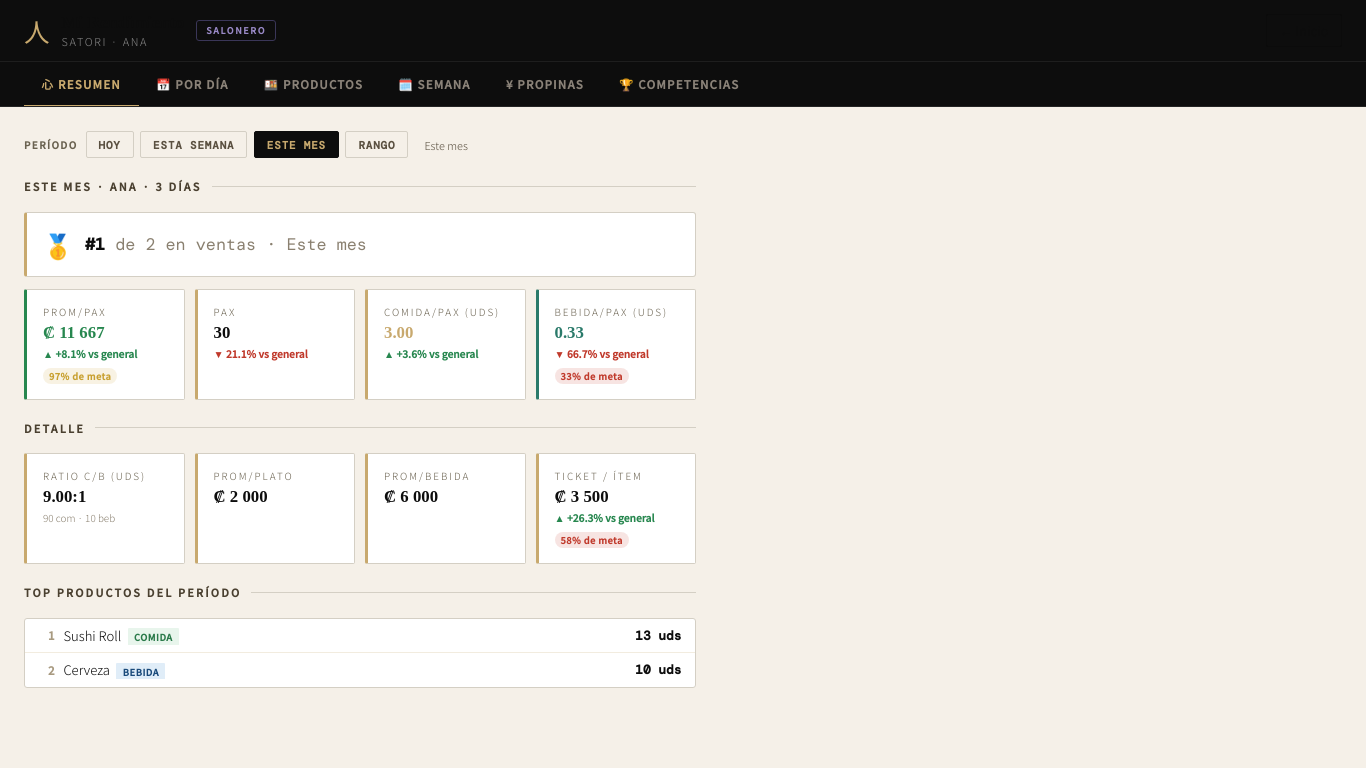
Test: MiRendimiento · render (salonero con match) › Por día muestra la comparación yo-vs-restaurante
Click the text with class "cd-nav-tab" showing "📅 Por día".
click(192, 84)  # box 156,76 -> 228,92
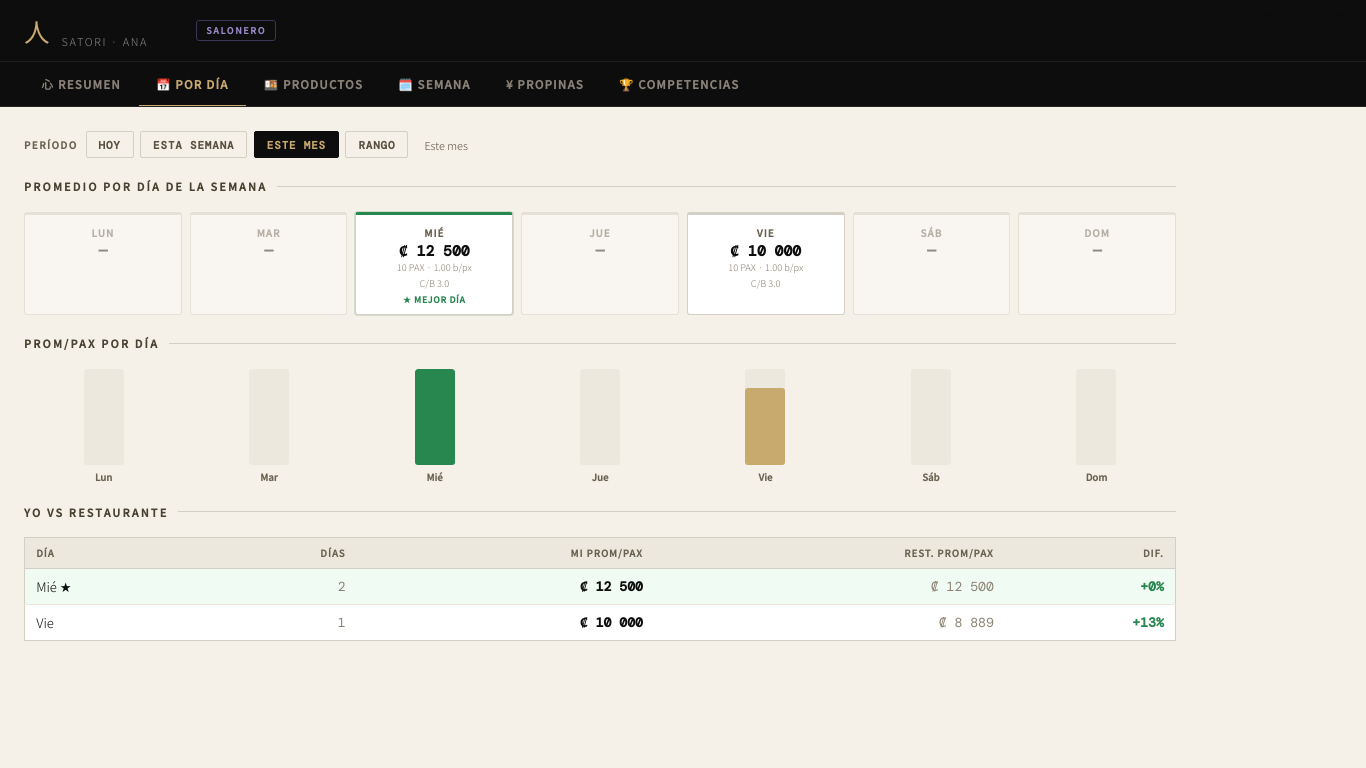
Expected: the text "Yo vs restaurante" is shown, 24,504 -> 168,520
